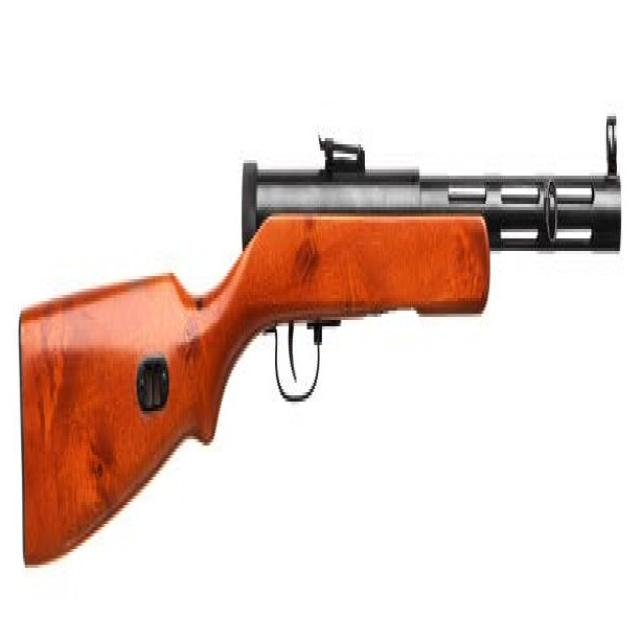rifle: (16, 84, 630, 569)
